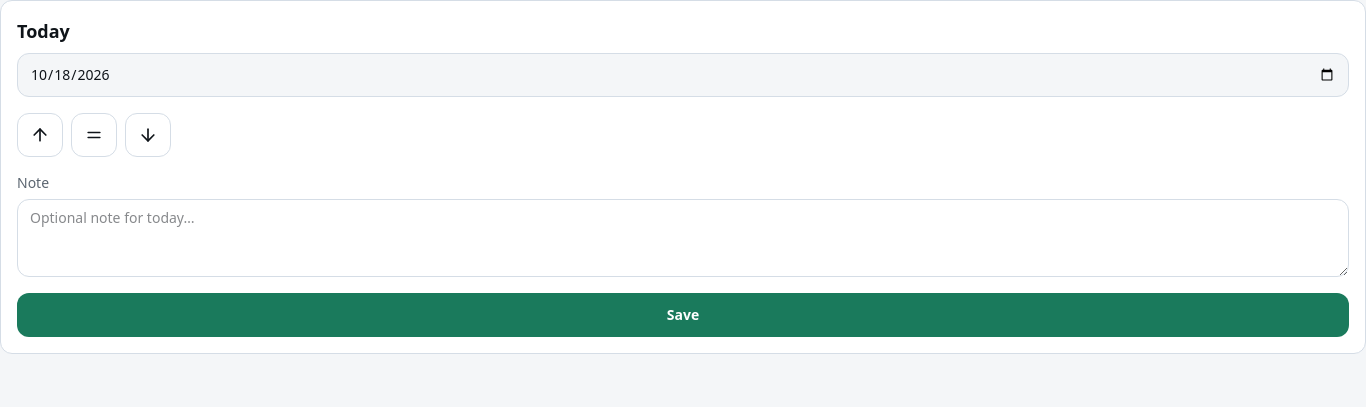
Test case: DayEntryPanel › keeps the prior rating when overwrite is cancelled
Click the button named "Flat". click: [94, 135]
box: [71,113,117,157]
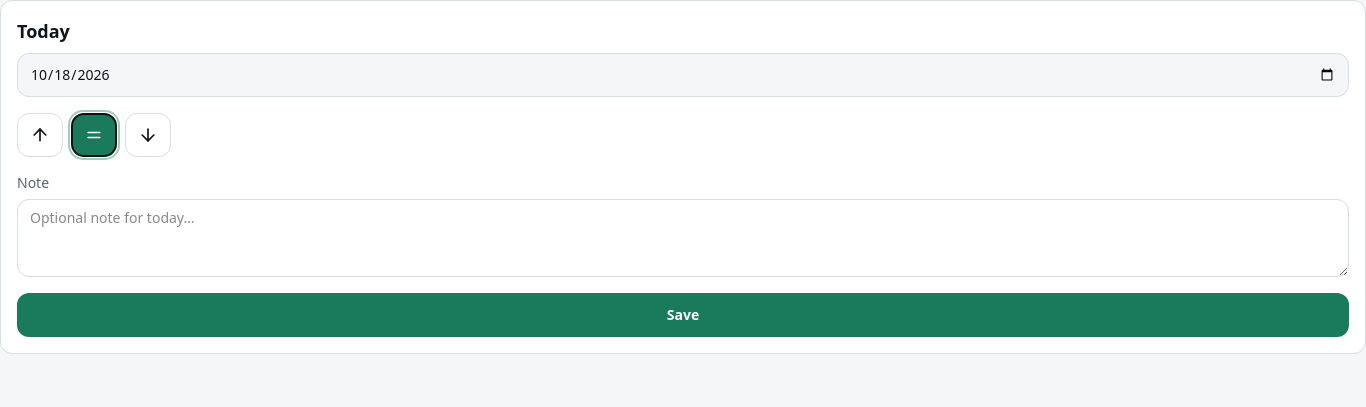
Click the button "Save". click: [683, 315]
box: [17,293,1349,337]
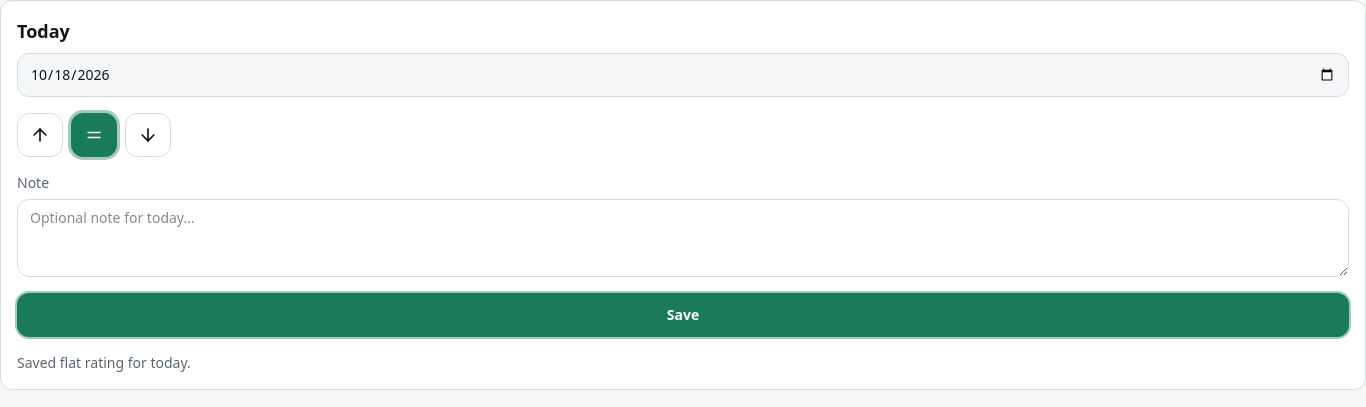
Click the button named "Up". click: [40, 135]
box: [17,113,63,157]
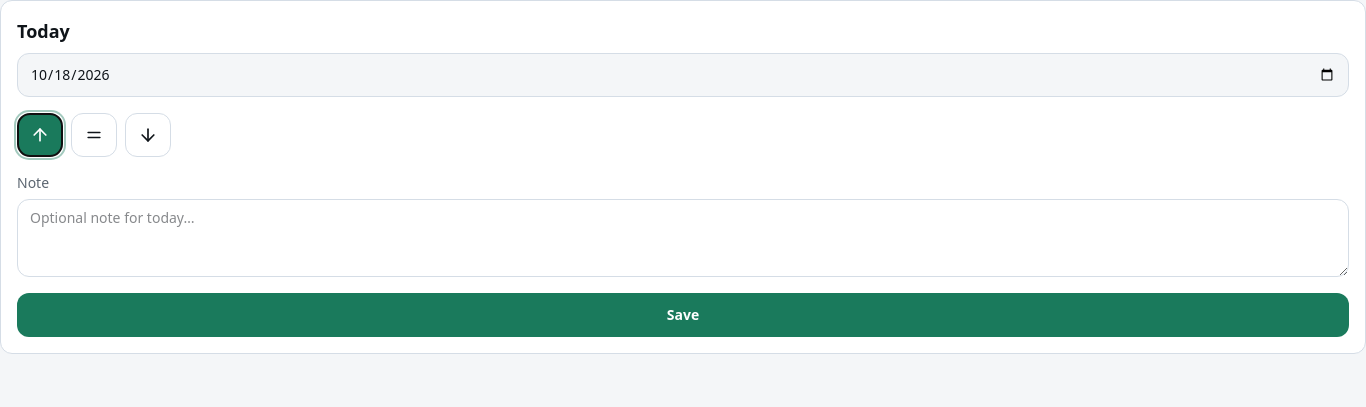
Click the button "Save". click: [683, 315]
box: [17,293,1349,337]
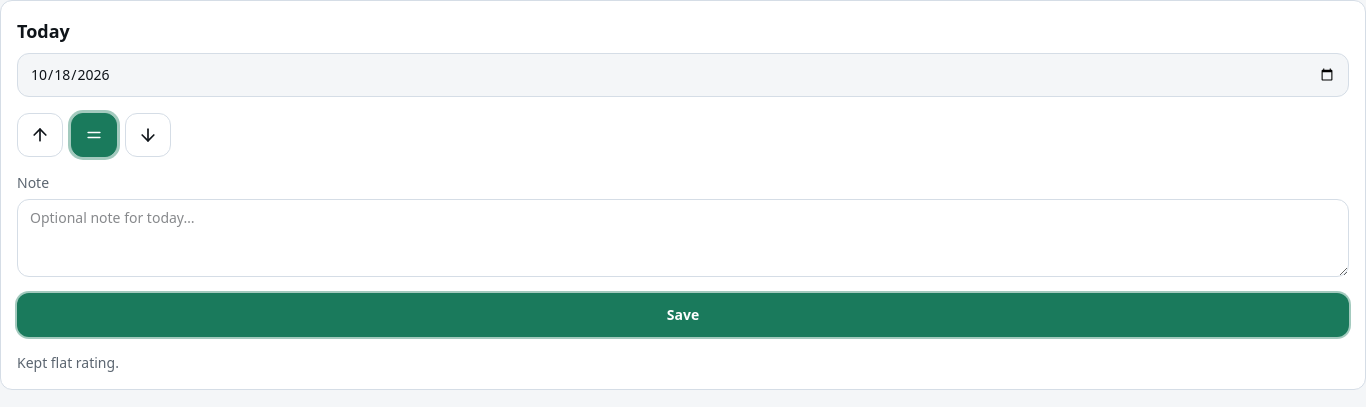
Expected: the message shows "Kept flat rating", [17,353,119,372]
